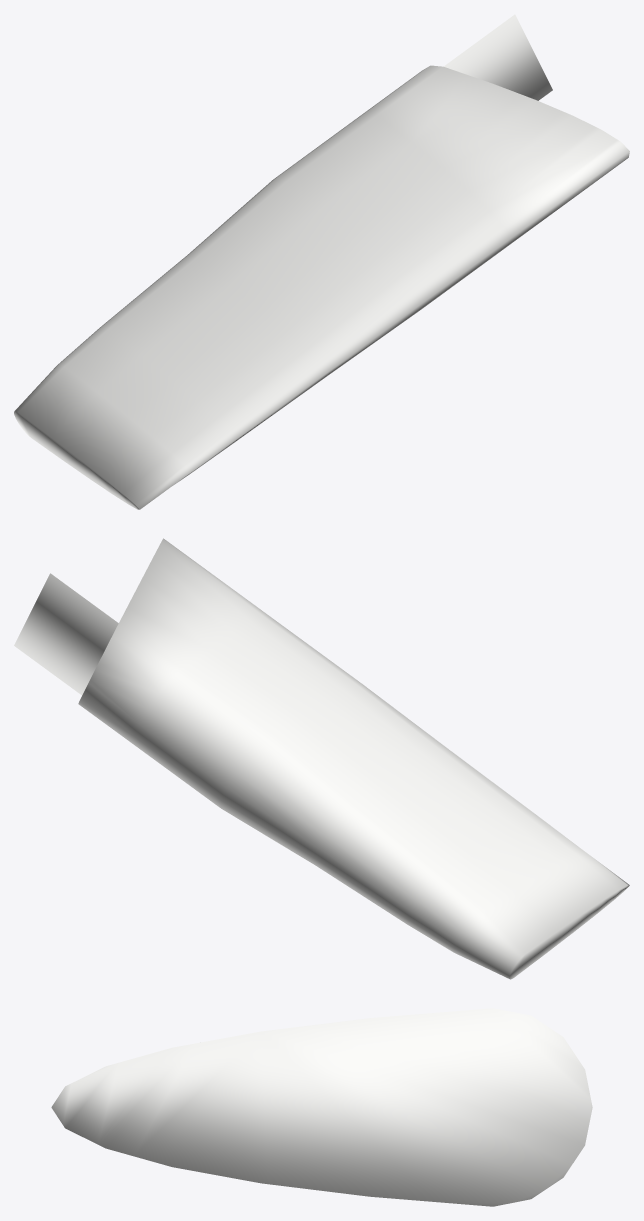
File: zlt_nt_rudder_port.glb
3 renders of one model, top to bottom at view 1: azimuth 30°, elevation 25°; view 2: azimuth 150°, elevation 25°; view 3: azimuth 270°, elevation 25°, orthographic. The views are drawn at different scales.
Parts seen in each view (by area): view 1: rudder_port; view 2: rudder_port; view 3: rudder_port.
Part boxes in pixels (bbox=[...]): rudder_port: bbox=[14, 14, 629, 509]; rudder_port: bbox=[14, 538, 629, 979]; rudder_port: bbox=[51, 1008, 592, 1206].
Bounding box in the file's own units: 5.28 × 2.88 × 2.42.
Materials: 1 (1 with a texture image).
